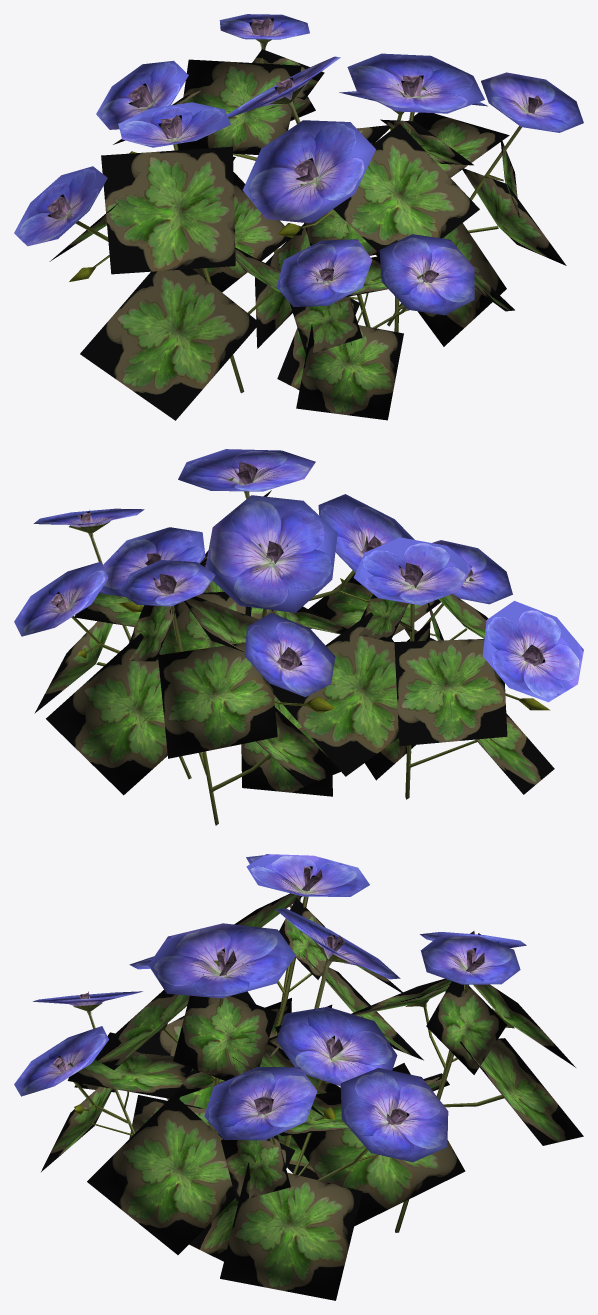
The model's file is Geranium Rozanne2_m.FBX.
3 views of the same model, one above another, from view 1: azimuth 30°, elevation 25°; view 2: azimuth 150°, elevation 25°; view 3: azimuth 270°, elevation 25° (orthographic). The views are drawn at different scales.
Parts seen in each view (by area): view 1: geranium rozanne_B006, geranium rozanne_B, geranium rozanne_B004, geranium rozanne_B005, geranium rozanne_B3, geranium rozanne_B2; view 2: geranium rozanne_B006, geranium rozanne_B005, geranium rozanne_B2, geranium rozanne_B3, geranium rozanne_B, geranium rozanne_B004; view 3: geranium rozanne_B3, geranium rozanne_B, geranium rozanne_B005, geranium rozanne_B2, geranium rozanne_B006, geranium rozanne_B004.
Boxes of the visible parts, box(x1,y1,x2,y2) form: geranium rozanne_B006: box(14, 102, 280, 420); geranium rozanne_B: box(242, 53, 514, 332); geranium rozanne_B004: box(276, 234, 474, 420); geranium rozanne_B005: box(96, 14, 324, 292); geranium rozanne_B3: box(376, 72, 583, 346); geranium rozanne_B2: box(227, 56, 404, 348); geranium rozanne_B006: box(272, 537, 583, 799); geranium rozanne_B005: box(46, 560, 340, 825); geranium rozanne_B2: box(100, 495, 347, 796); geranium rozanne_B3: box(14, 508, 191, 779); geranium rozanne_B: box(178, 449, 414, 619); geranium rozanne_B004: box(308, 540, 512, 780); geranium rozanne_B3: box(189, 1067, 448, 1300); geranium rozanne_B: box(87, 923, 340, 1254); geranium rozanne_B005: box(291, 931, 583, 1232); geranium rozanne_B2: box(174, 908, 400, 1179); geranium rozanne_B006: box(136, 854, 423, 1138); geranium rozanne_B004: box(14, 991, 213, 1171).
Size of the model in its own units: 89.79 by 45.75 by 75.77.
